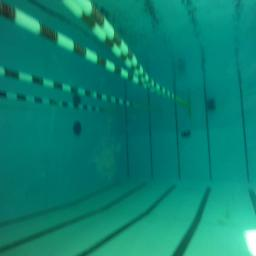Full: (204, 98, 216, 111), (181, 130, 192, 138)
